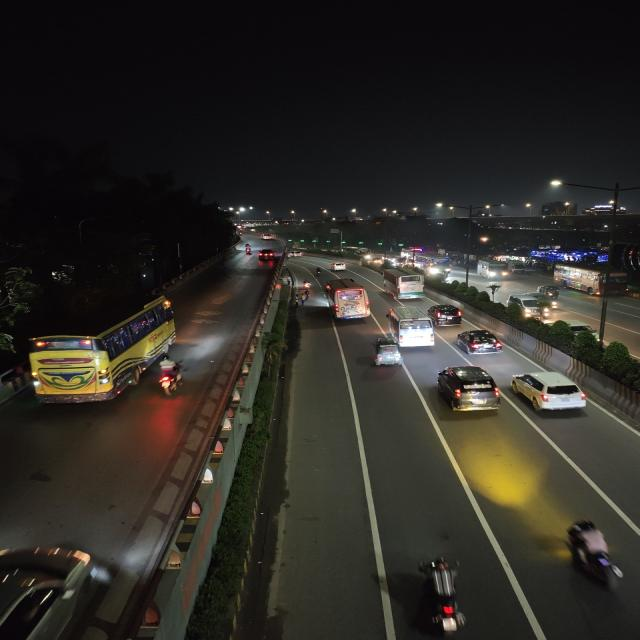bus: (26, 296, 180, 408), (552, 263, 628, 297), (323, 279, 373, 324), (392, 305, 438, 348), (381, 270, 427, 300), (415, 253, 452, 276), (476, 259, 509, 281)
car: (509, 368, 594, 420), (433, 364, 504, 418), (454, 328, 506, 358), (506, 293, 557, 321), (428, 303, 466, 327), (330, 260, 347, 272), (257, 250, 276, 260), (289, 249, 303, 259)
cng: (368, 335, 406, 368), (536, 284, 563, 300)
motorcycle: (558, 514, 633, 588), (412, 552, 474, 638), (154, 354, 188, 396), (243, 244, 254, 254)
pedestrian: (298, 292, 308, 306), (292, 294, 302, 305), (302, 288, 311, 300)
